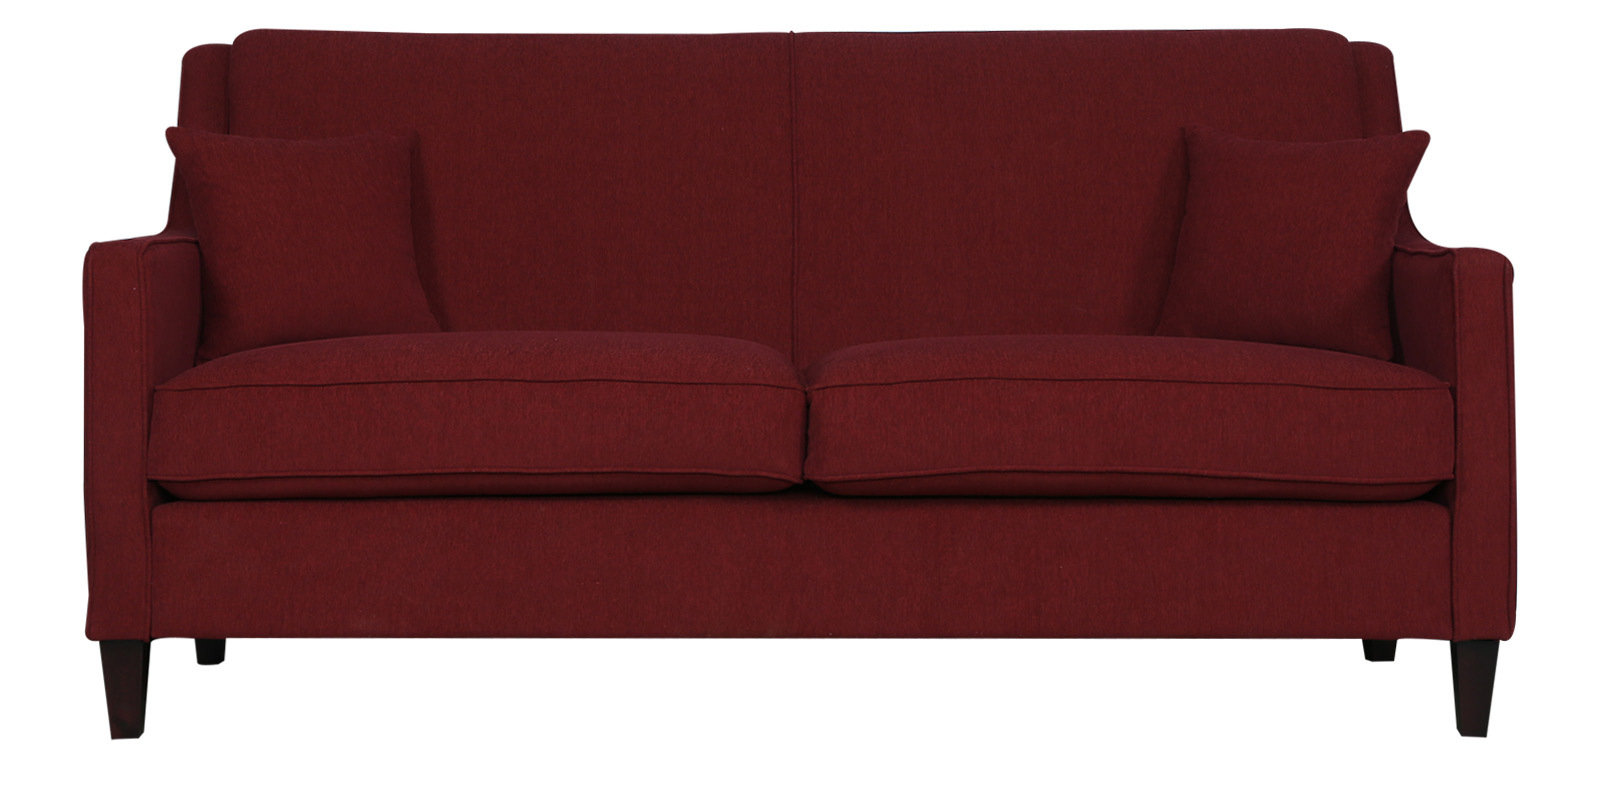Oscar Three Seater Sofa in Garnet Red Colour by CasaCraft: (77, 28, 1515, 737)
